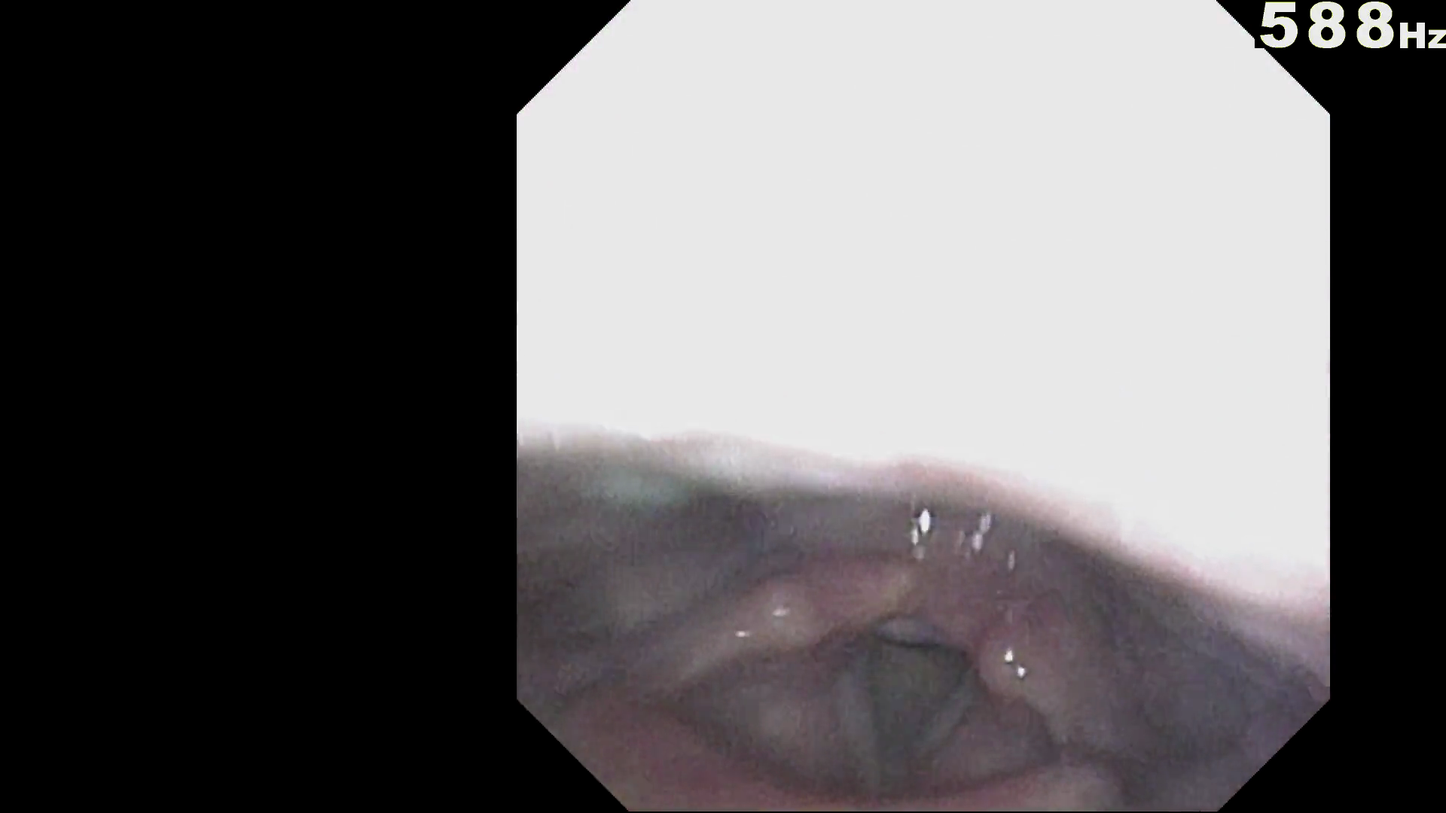trachea: (860, 581, 985, 734)
